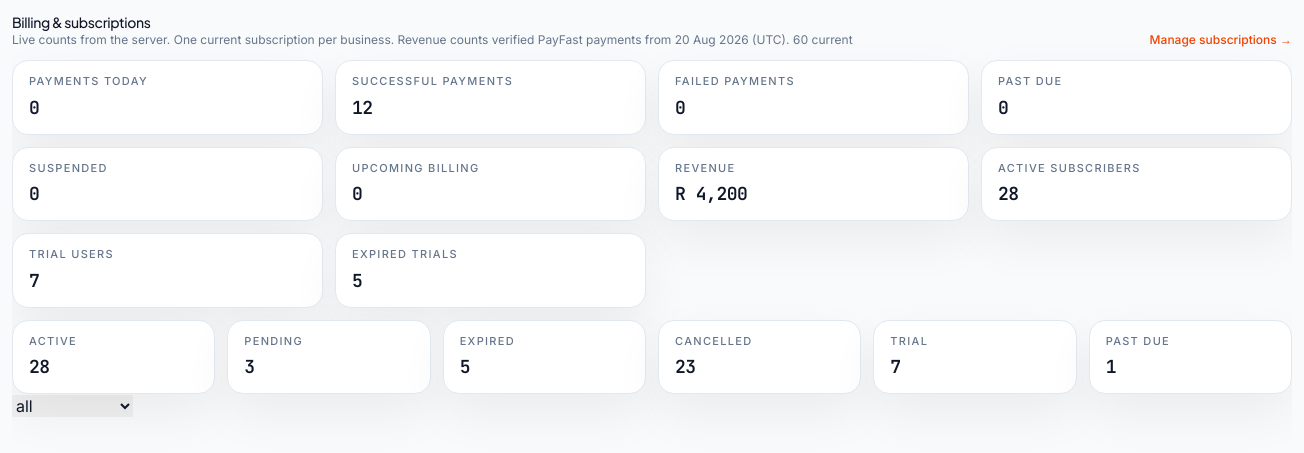
Test: cards drive the shared filter state › clicking Pending sets the filter to pending and syncs the dropdown
Click the button "Pending 3".
click(329, 357)  # box [227, 320, 431, 394]
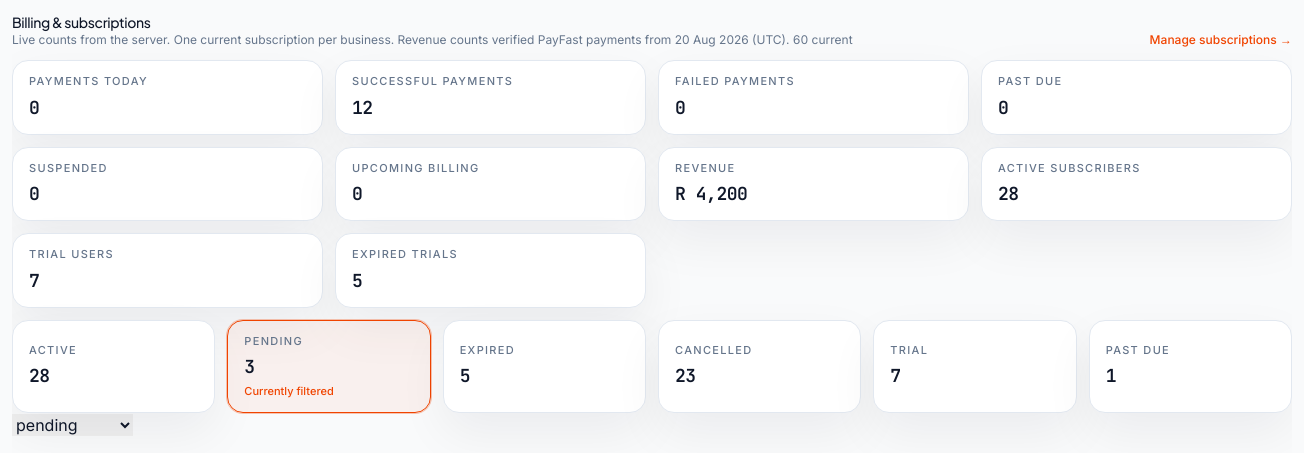
Result: the dropdown with test id "status-dropdown" shows "pending" at [12, 414, 133, 436]
